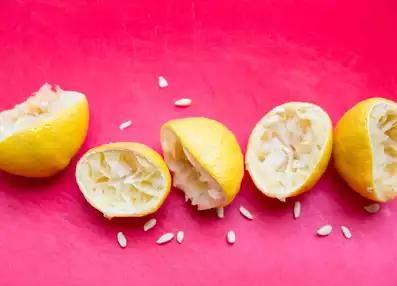organic: (244, 101, 333, 201), (0, 83, 90, 176), (159, 116, 245, 210), (75, 141, 171, 219), (333, 97, 397, 203)
